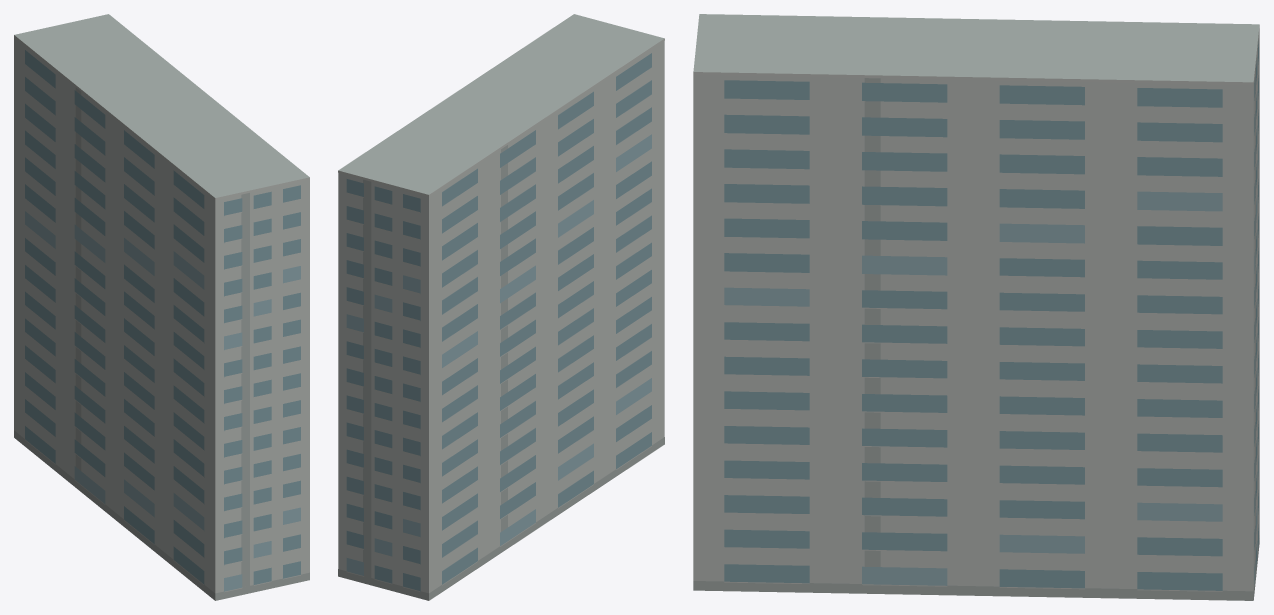
The model's file is residential-c85a97b6-86f1-483e-878f-8085e1c8fccd.glb.
The picture shows the model from 3 angles, left to right: view 1: azimuth 30°, elevation 25°; view 2: azimuth 150°, elevation 25°; view 3: azimuth 270°, elevation 25°; orthographic projection. The views are drawn at different scales.
Visible parts, largest first — view 1: residential-c85a97b6-86f1-483e-878f-8085e1c8fccd.tmp; view 2: residential-c85a97b6-86f1-483e-878f-8085e1c8fccd.tmp; view 3: residential-c85a97b6-86f1-483e-878f-8085e1c8fccd.tmp.
Part boxes in pixels (left/top/right/bottom): residential-c85a97b6-86f1-483e-878f-8085e1c8fccd.tmp: left=14, top=14, right=309, bottom=600; residential-c85a97b6-86f1-483e-878f-8085e1c8fccd.tmp: left=338, top=14, right=664, bottom=600; residential-c85a97b6-86f1-483e-878f-8085e1c8fccd.tmp: left=693, top=14, right=1259, bottom=600.
Bounding box in the file's own units: 12.16 × 43 × 42.56.
